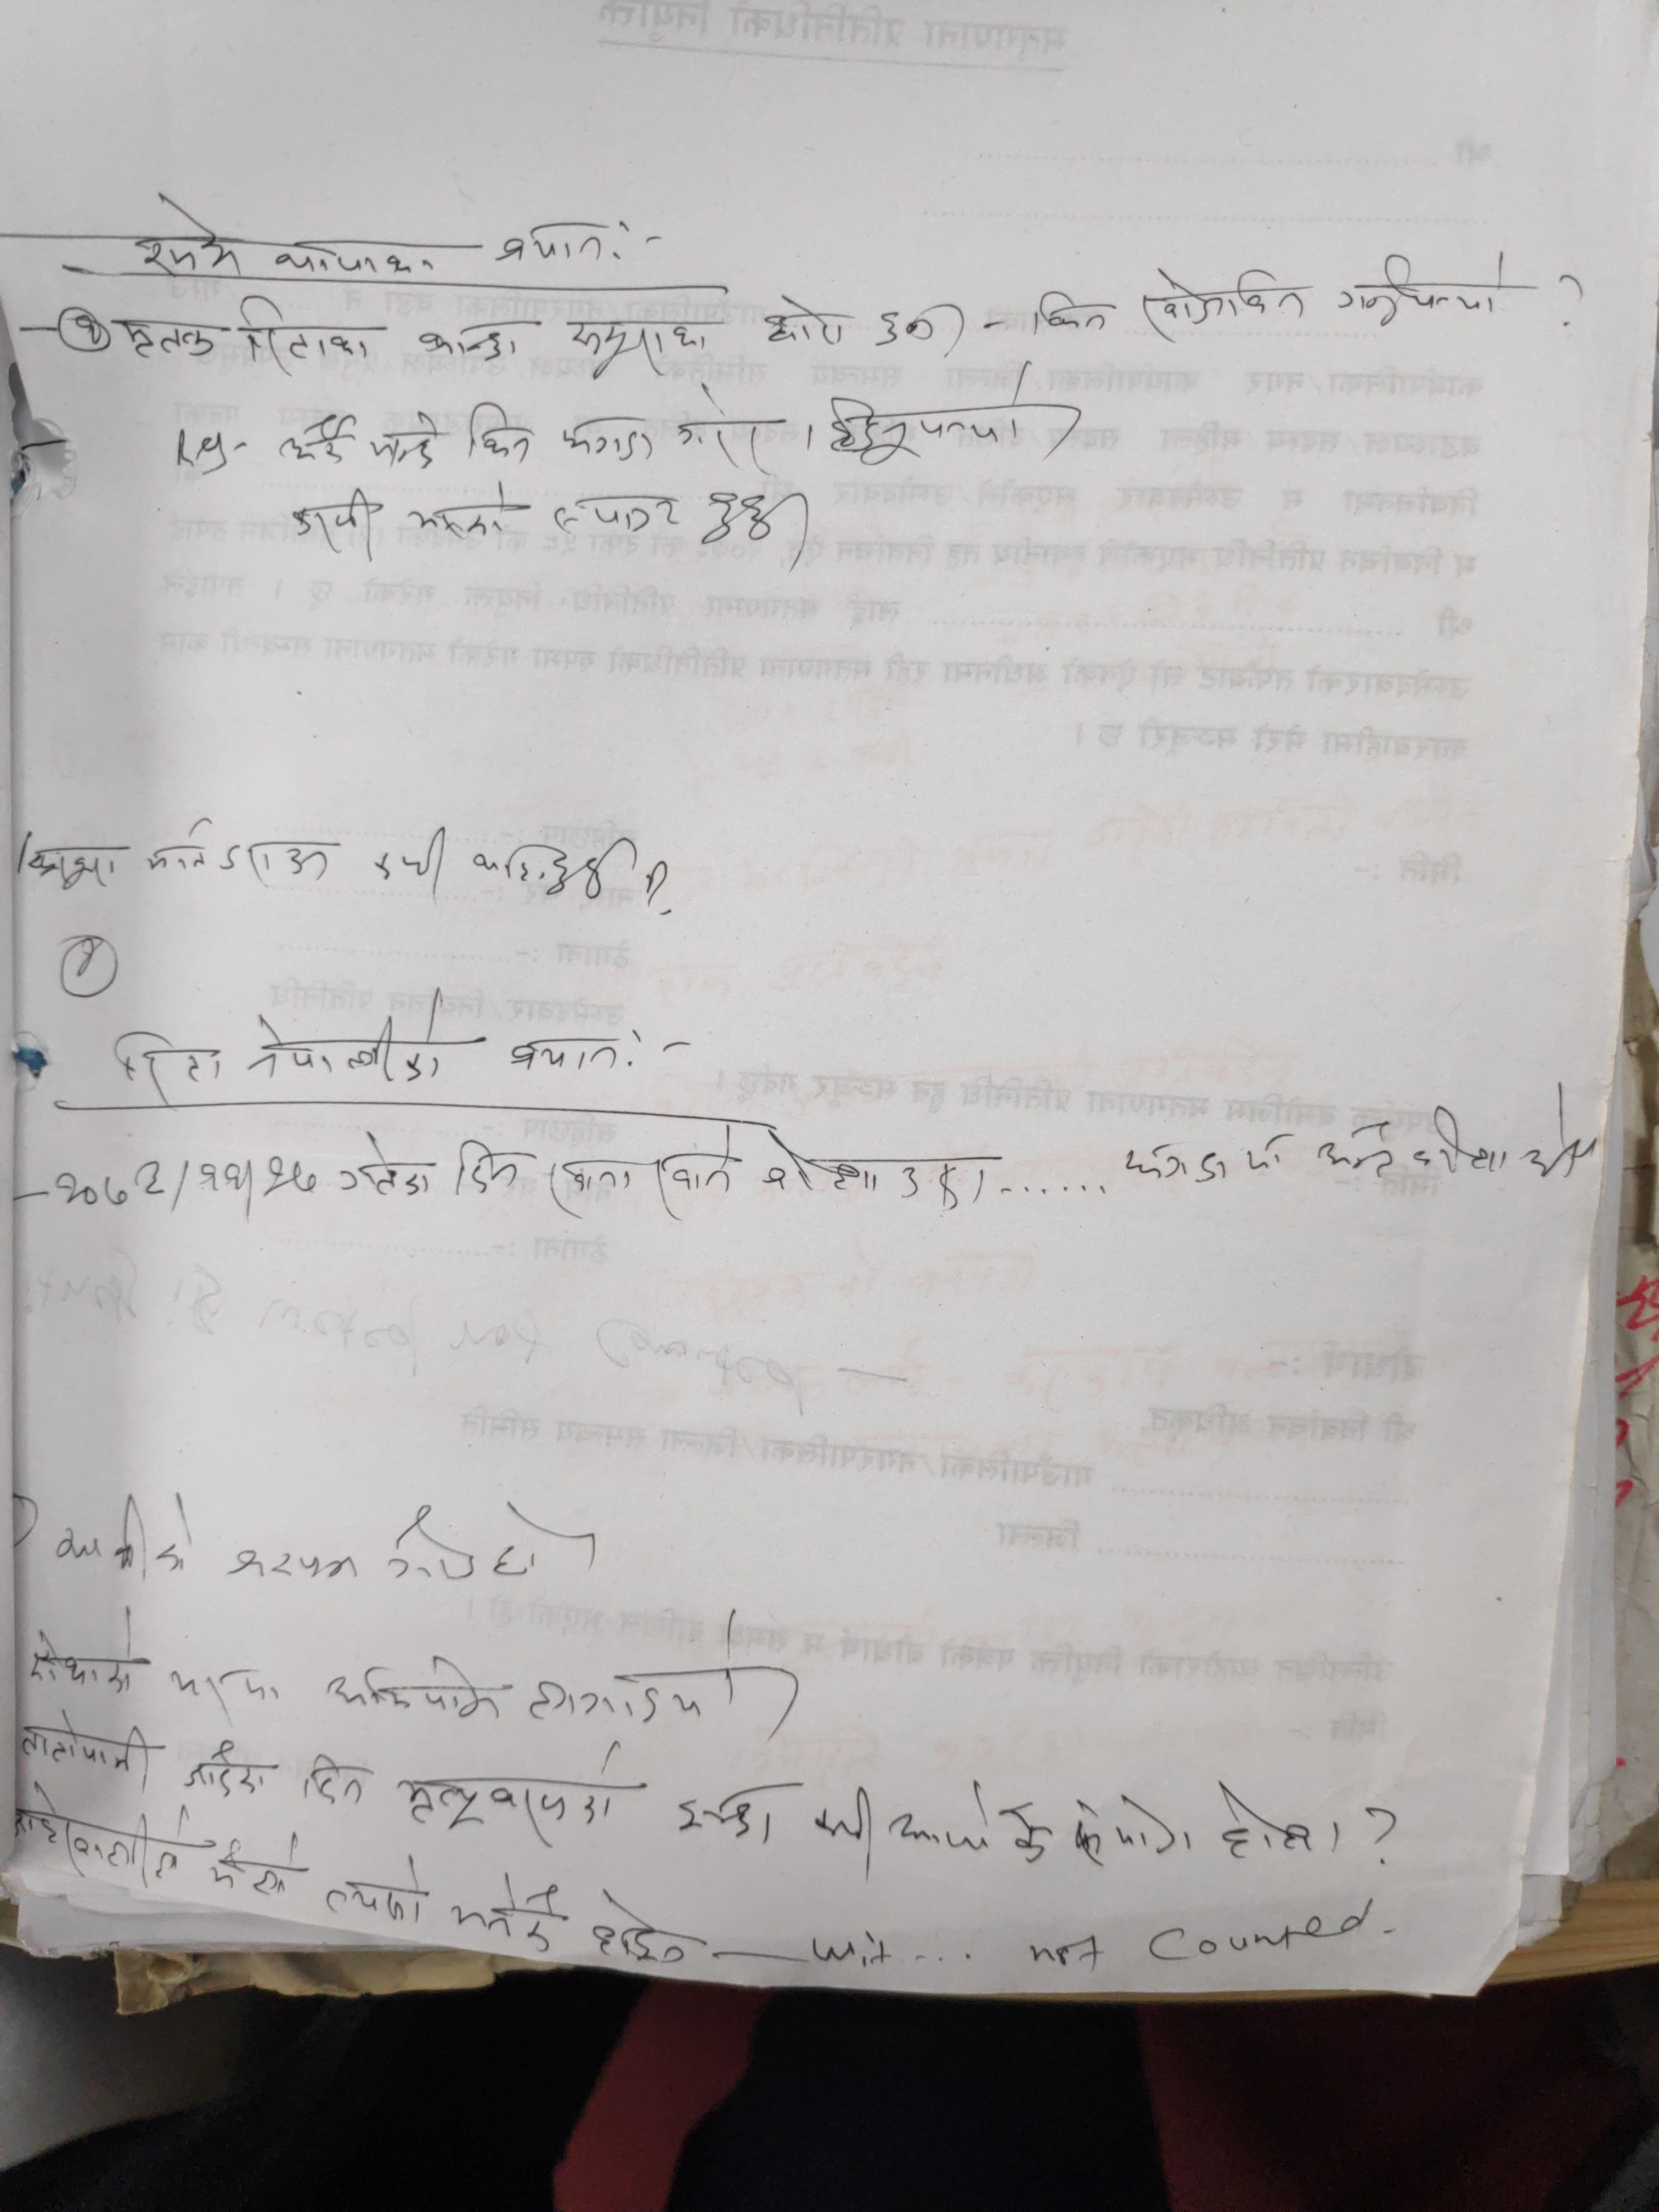text: (526, 1611, 803, 1735), (221, 1500, 601, 1585), (803, 368, 1086, 465), (1319, 1090, 1586, 1190), (399, 1737, 626, 1844), (242, 982, 451, 1085), (758, 1123, 999, 1211), (110, 294, 380, 369), (545, 1127, 744, 1219), (51, 1148, 317, 1214), (12, 1789, 192, 1885), (1333, 246, 1514, 331), (143, 813, 340, 885), (329, 1651, 505, 1730), (1136, 263, 1309, 341), (17, 1703, 153, 1794), (52, 1498, 197, 1580), (674, 381, 791, 477), (131, 193, 256, 277), (26, 1611, 143, 1696), (1124, 1129, 1293, 1183), (565, 314, 713, 374), (451, 1876, 561, 1958), (112, 1021, 225, 1099), (587, 1888, 694, 1970), (274, 237, 448, 284), (171, 1653, 284, 1724), (551, 482, 685, 540), (321, 1853, 430, 1923), (12, 822, 124, 888), (335, 1129, 437, 1200), (282, 488, 383, 559), (211, 1827, 307, 1898), (415, 479, 516, 542), (415, 312, 532, 364), (373, 826, 453, 900), (559, 409, 662, 467), (498, 216, 610, 268), (870, 300, 971, 357), (694, 484, 779, 552), (357, 408, 444, 474), (176, 1738, 272, 1797), (464, 397, 542, 467), (505, 1028, 626, 1073), (444, 1134, 523, 1202), (277, 408, 357, 474), (298, 1749, 378, 1813), (760, 294, 852, 348), (1026, 287, 1114, 340)
